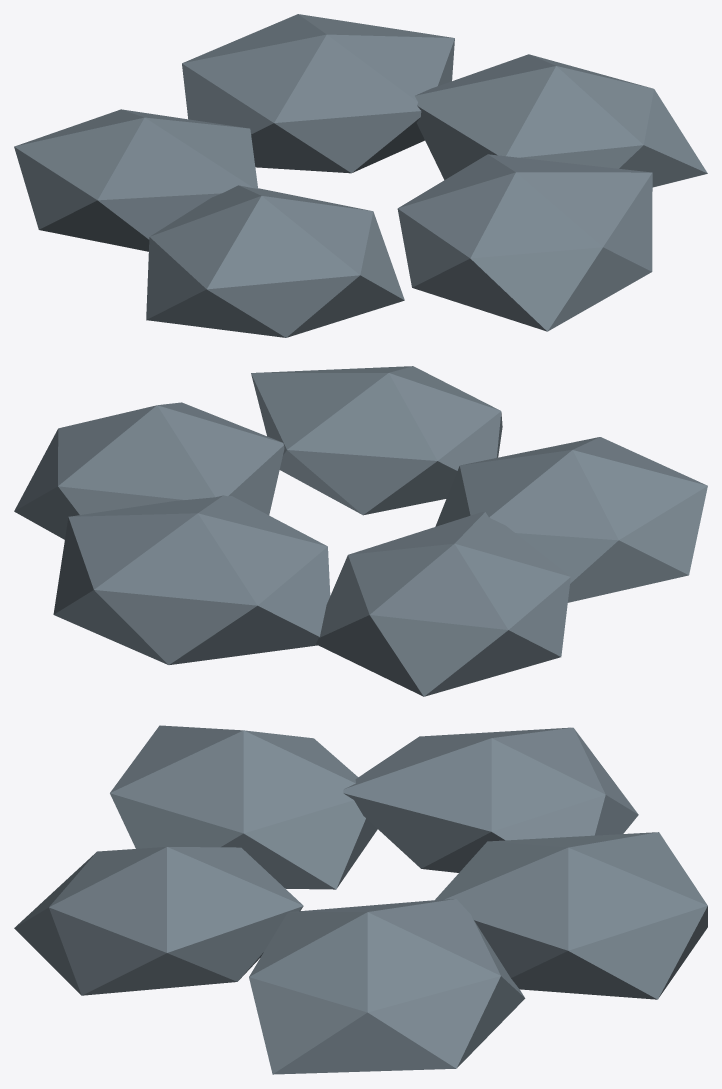
Rendered from BrokenRock.fbx.
3 views of the same model, one above another, from view 1: azimuth 30°, elevation 25°; view 2: azimuth 150°, elevation 25°; view 3: azimuth 270°, elevation 25° (orthographic). The views are drawn at different scales.
Visible parts, largest first — view 1: Rubble4, Rubble1, Rubble3, Rubble0, Rubble2; view 2: Rubble1, Rubble2, Rubble3, Rubble4, Rubble0; view 3: Rubble0, Rubble1, Rubble4, Rubble3, Rubble2.
Part boxes in pixels (box(x1,y1,x2,y2)): Rubble4: box(397, 154, 652, 331); Rubble1: box(182, 14, 454, 173); Rubble3: box(146, 185, 404, 337); Rubble0: box(415, 54, 707, 187); Rubble2: box(14, 109, 258, 251); Rubble1: box(53, 495, 330, 664); Rubble2: box(316, 512, 570, 696); Rubble3: box(435, 437, 707, 602); Rubble4: box(251, 366, 502, 515); Rubble0: box(14, 402, 284, 539); Rubble0: box(249, 899, 525, 1074); Rubble1: box(435, 832, 707, 999); Rubble4: box(14, 847, 303, 995); Rubble3: box(110, 725, 377, 889); Rubble2: box(343, 727, 638, 872).
Bounding box in the file's own units: 100 × 21.99 × 98.73.
